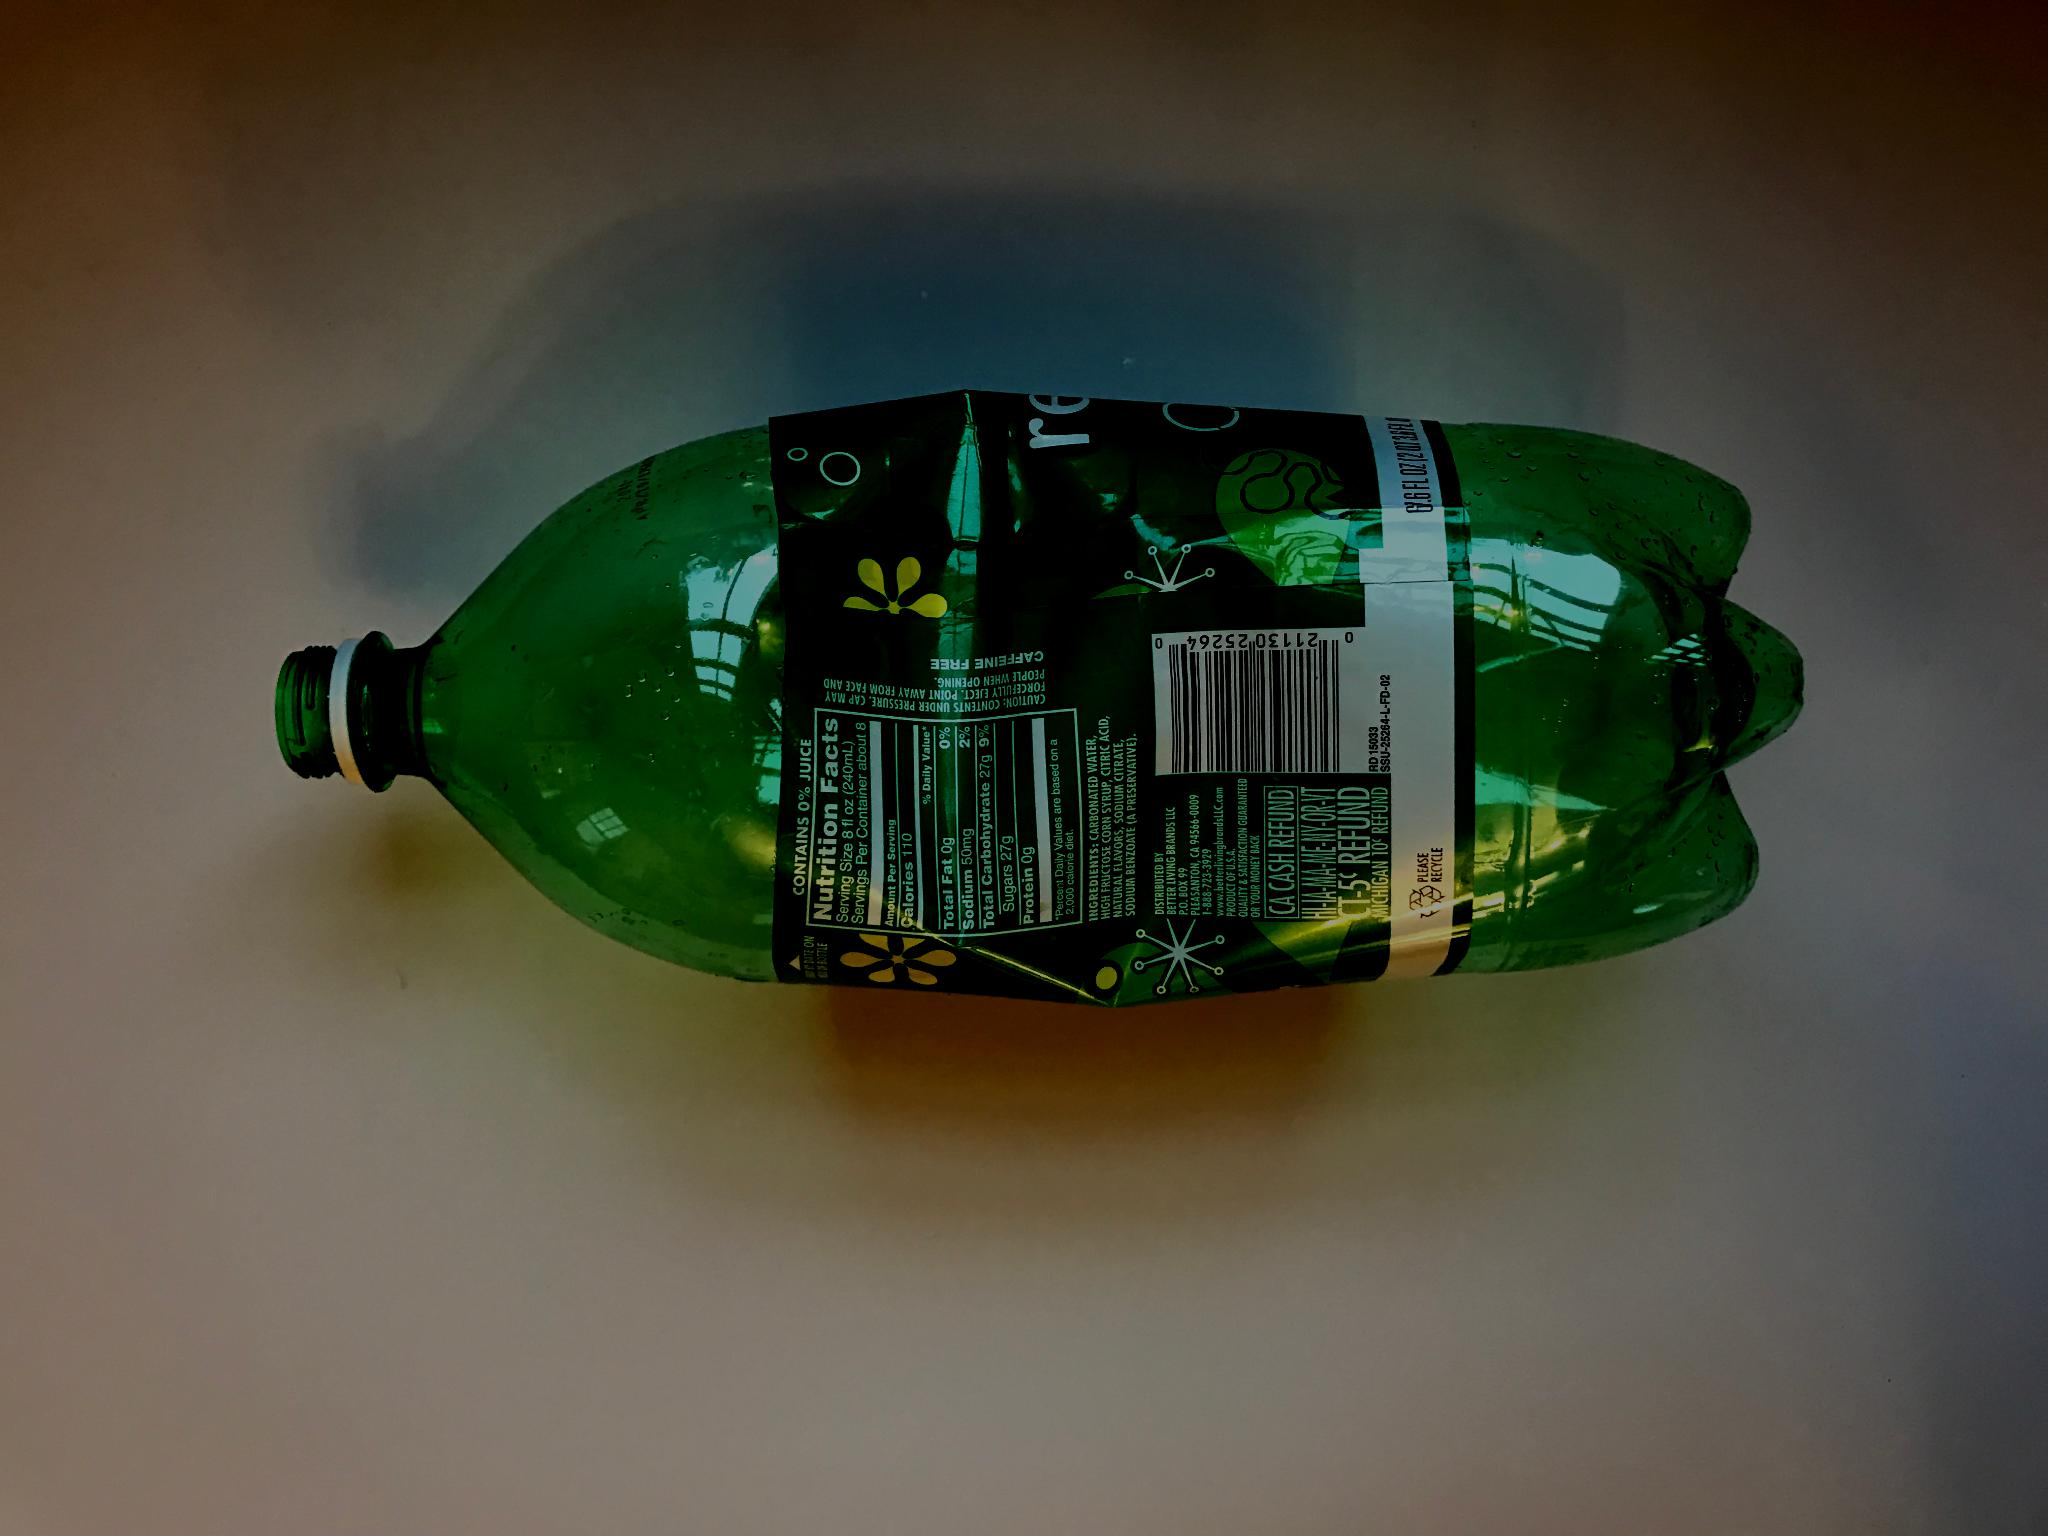Plastic: (271, 384, 1819, 1015)
